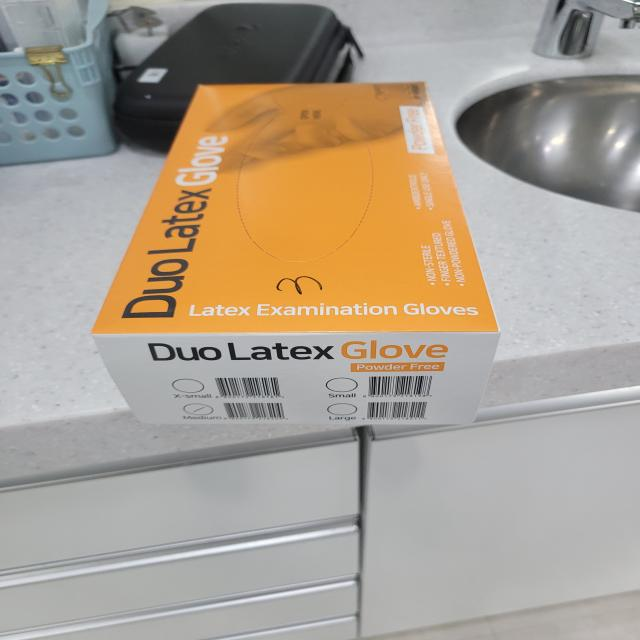glove: (97, 55, 526, 462)
